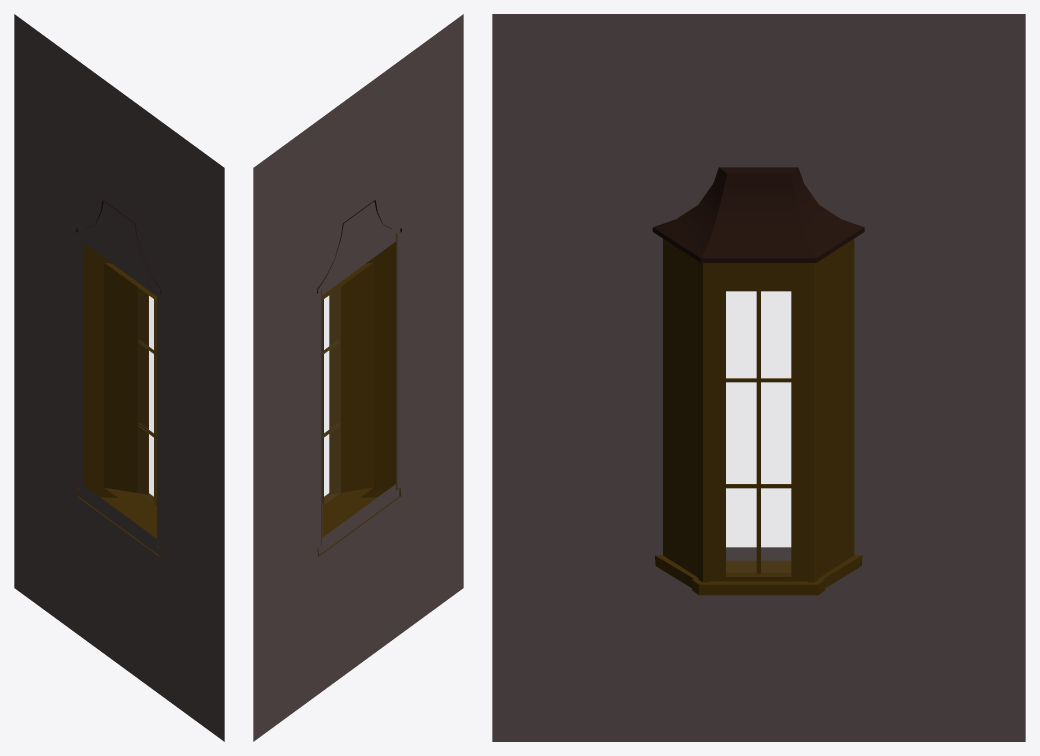
File: Pared_Ventanal_02.fbx
The picture shows the model from 3 angles, left to right: view 1: azimuth 30°, elevation 25°; view 2: azimuth 150°, elevation 25°; view 3: azimuth 270°, elevation 25°; orthographic projection. The views are drawn at different scales.
Parts seen in each view (by area): view 1: polySurface28, polySurface1, Barrote_Vent_02_Edif_03; view 2: polySurface28, polySurface1, Barrote_Vent_02_Edif_03; view 3: polySurface28, polySurface1, Tejado_Ventanal, Barrote_Vent_02_Edif_03.
Part boxes in pixels (box(x1,y1,x2,y2)): polySurface28: box(14, 14, 224, 741); polySurface1: box(77, 233, 160, 556); Barrote_Vent_02_Edif_03: box(138, 299, 156, 506); polySurface28: box(253, 14, 463, 741); polySurface1: box(317, 233, 401, 556); Barrote_Vent_02_Edif_03: box(322, 299, 340, 504); polySurface28: box(492, 14, 1025, 741); polySurface1: box(655, 238, 862, 595); Tejado_Ventanal: box(652, 167, 864, 262); Barrote_Vent_02_Edif_03: box(726, 291, 791, 573).
Bounding box in the file's own units: 1.66 × 18 × 11.95.
